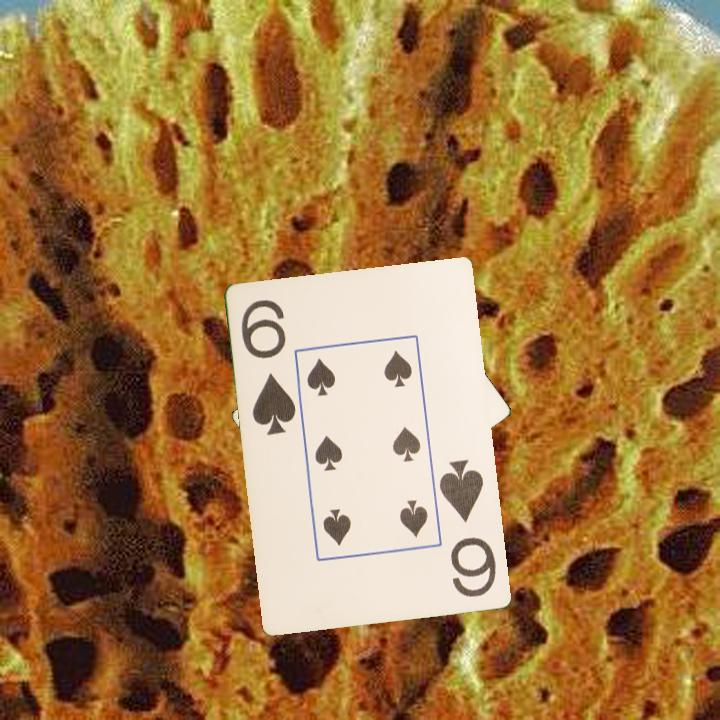6s: (436, 456, 500, 601), (238, 296, 300, 439)
